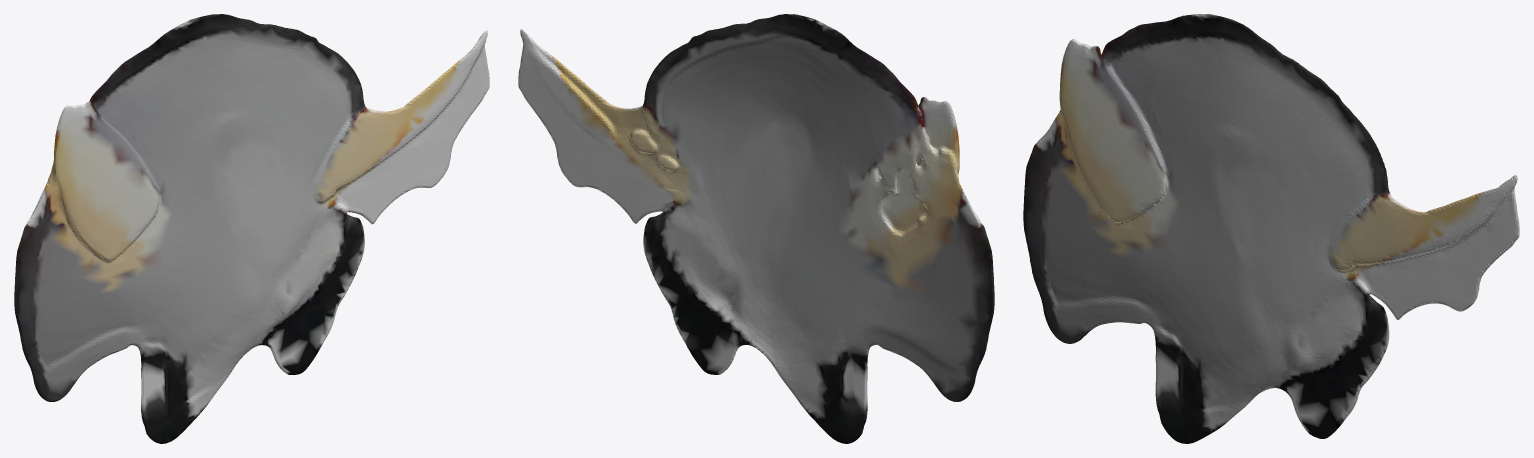
Rendered from hornhelmet.glb.
3 renders of one model, left to right at view 1: azimuth 30°, elevation 25°; view 2: azimuth 150°, elevation 25°; view 3: azimuth 330°, elevation 25°, orthographic. The views are drawn at different scales.
Visible parts, largest first — view 1: geometry_0; view 2: geometry_0; view 3: geometry_0.
Boxes of the visible parts, <box> form: geometry_0: <box>14,14,489,443</box>; geometry_0: <box>518,14,994,443</box>; geometry_0: <box>1023,14,1519,443</box>.
Bounding box in the file's own units: 0.5938 × 0.4975 × 0.0221.
